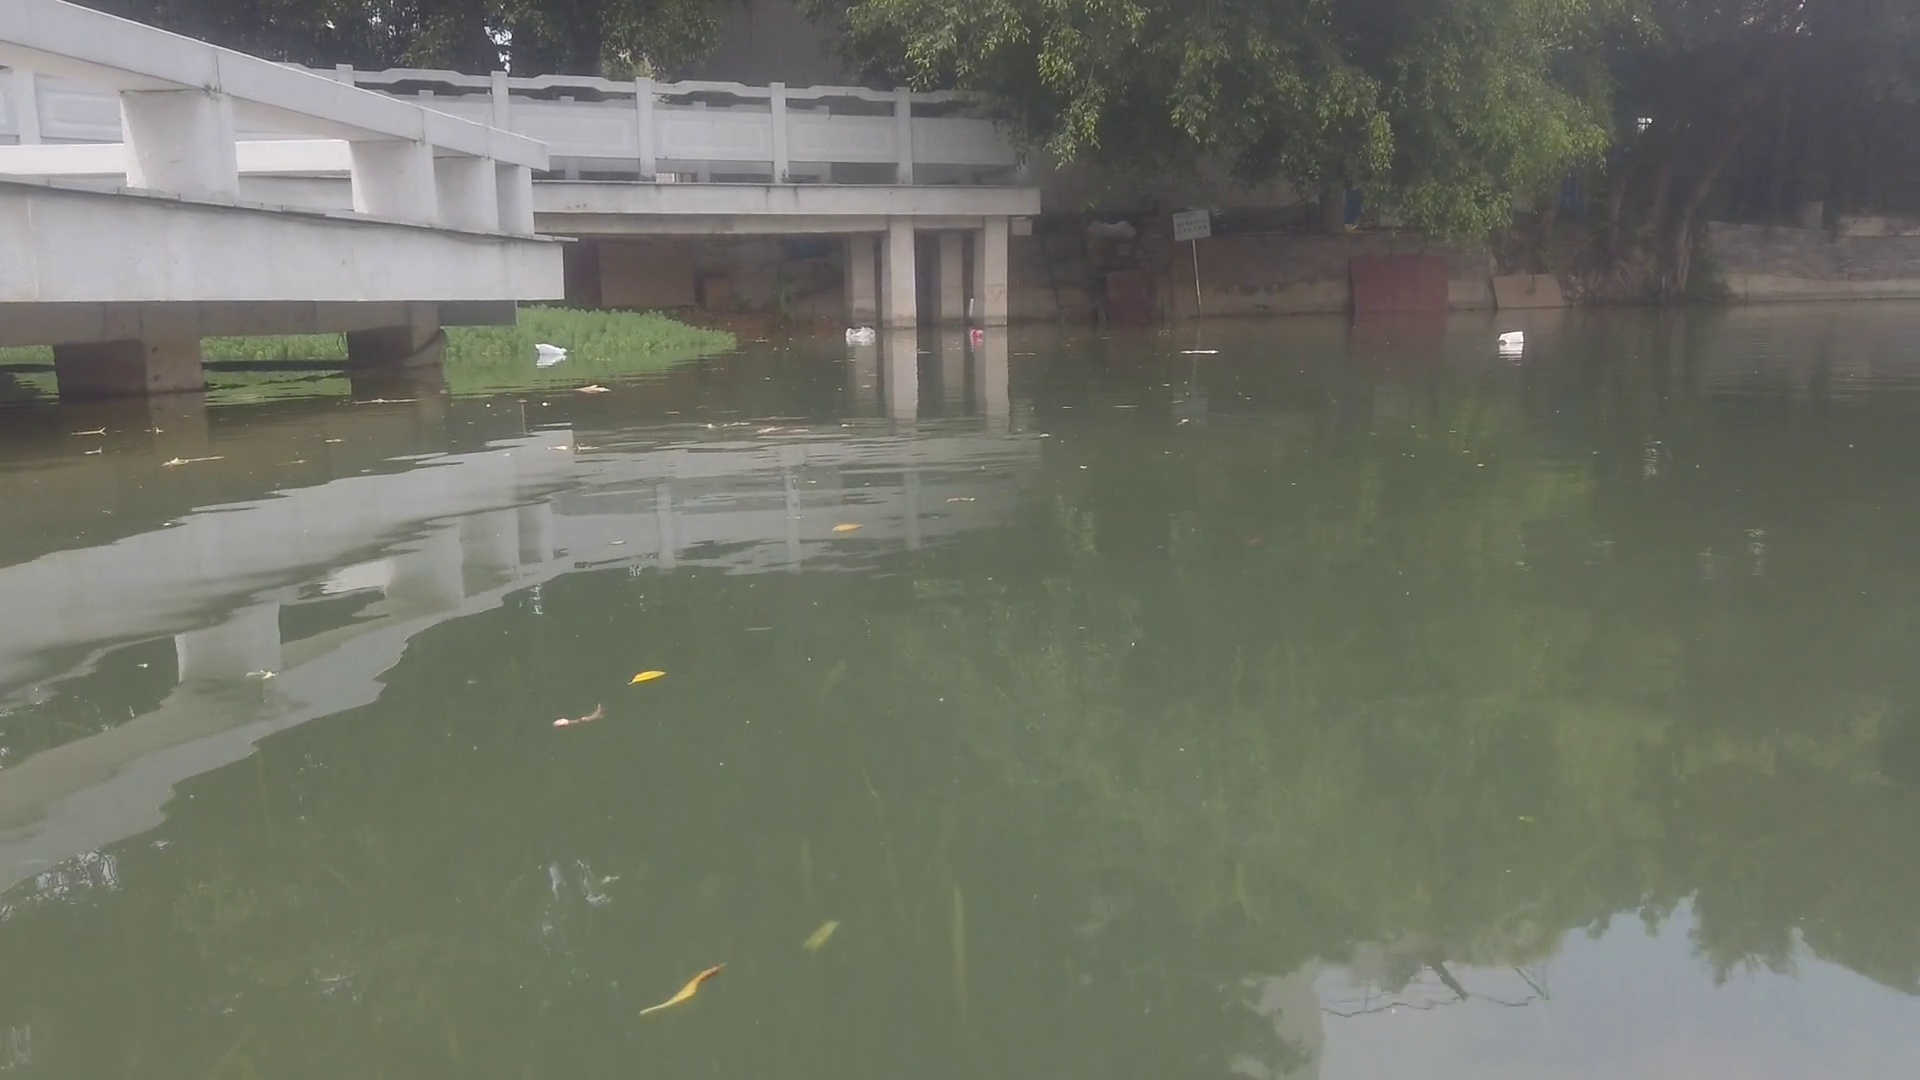bottle: (965, 326, 992, 340)
carton: (1491, 328, 1532, 342)
paper: (572, 378, 615, 398), (1182, 344, 1218, 357)
plastic: (531, 338, 568, 357), (841, 324, 880, 338)
